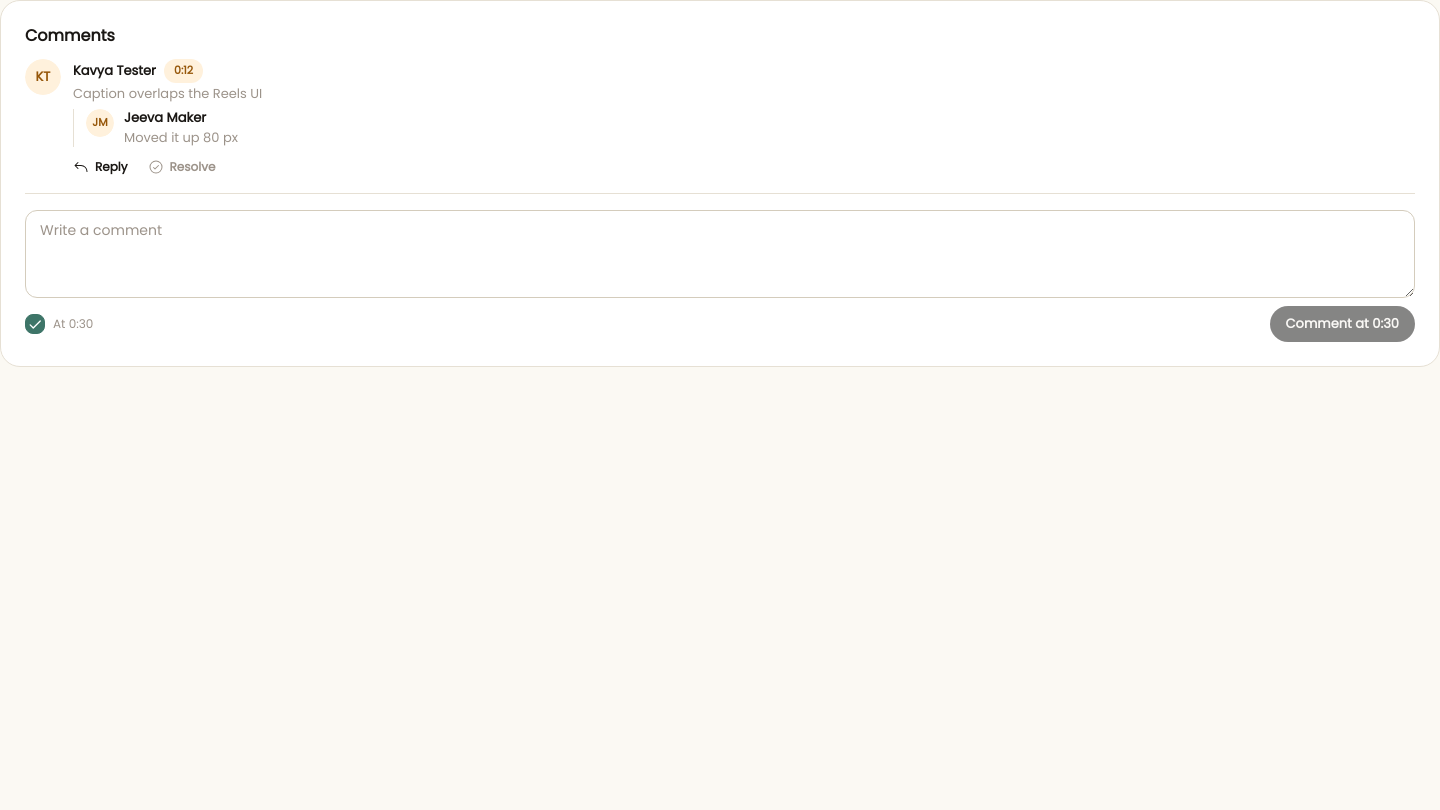
comment threads › shows replies indented under the root and sends a reply with parentId
Expected: the text "Moved it up 80 px" is shown, left=124, top=128, right=238, bottom=147
Expected: the number of buttons named "Go to" is 1, left=164, top=59, right=203, bottom=83
Click the button with aria-label "Reply to Kavya Tester": (100, 167) left=65, top=153, right=136, bottom=181
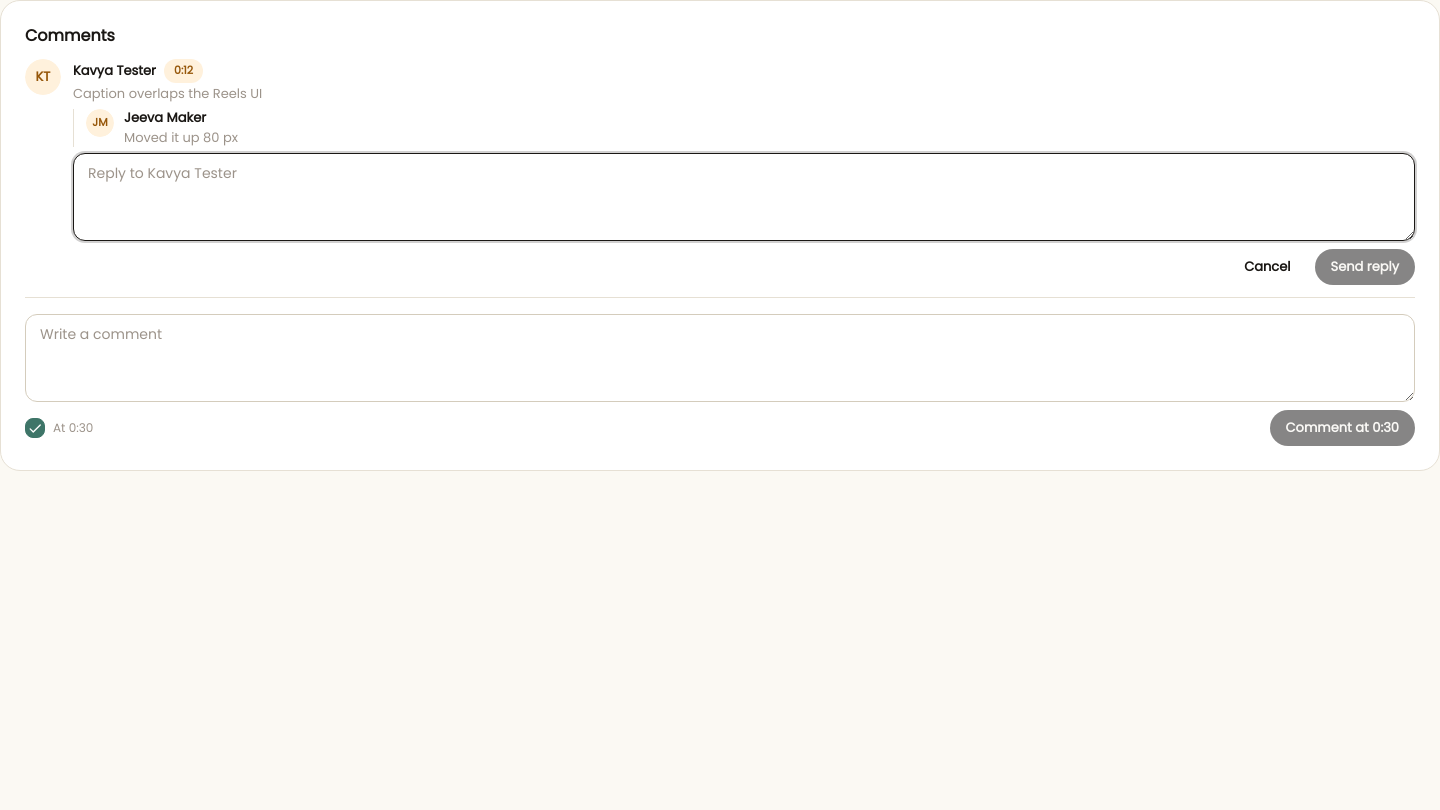
Now the text box labelled "Reply to Kavya Tester" is empty
In the text box labelled "Reply to Kavya Tester": (744, 197) left=73, top=153, right=1415, bottom=241, type "Thanks"
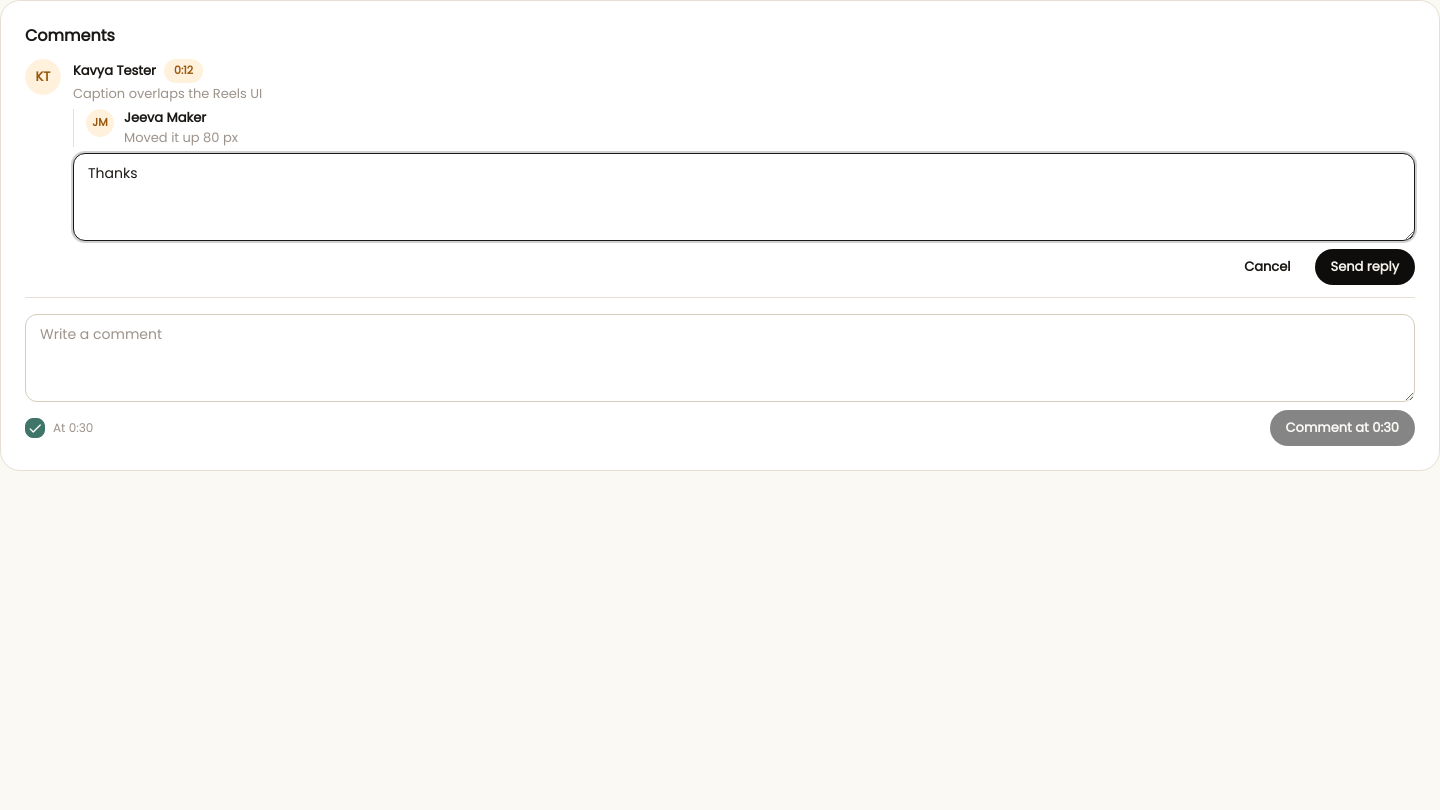
Click the button "Send reply": (1365, 267) left=1314, top=249, right=1415, bottom=285
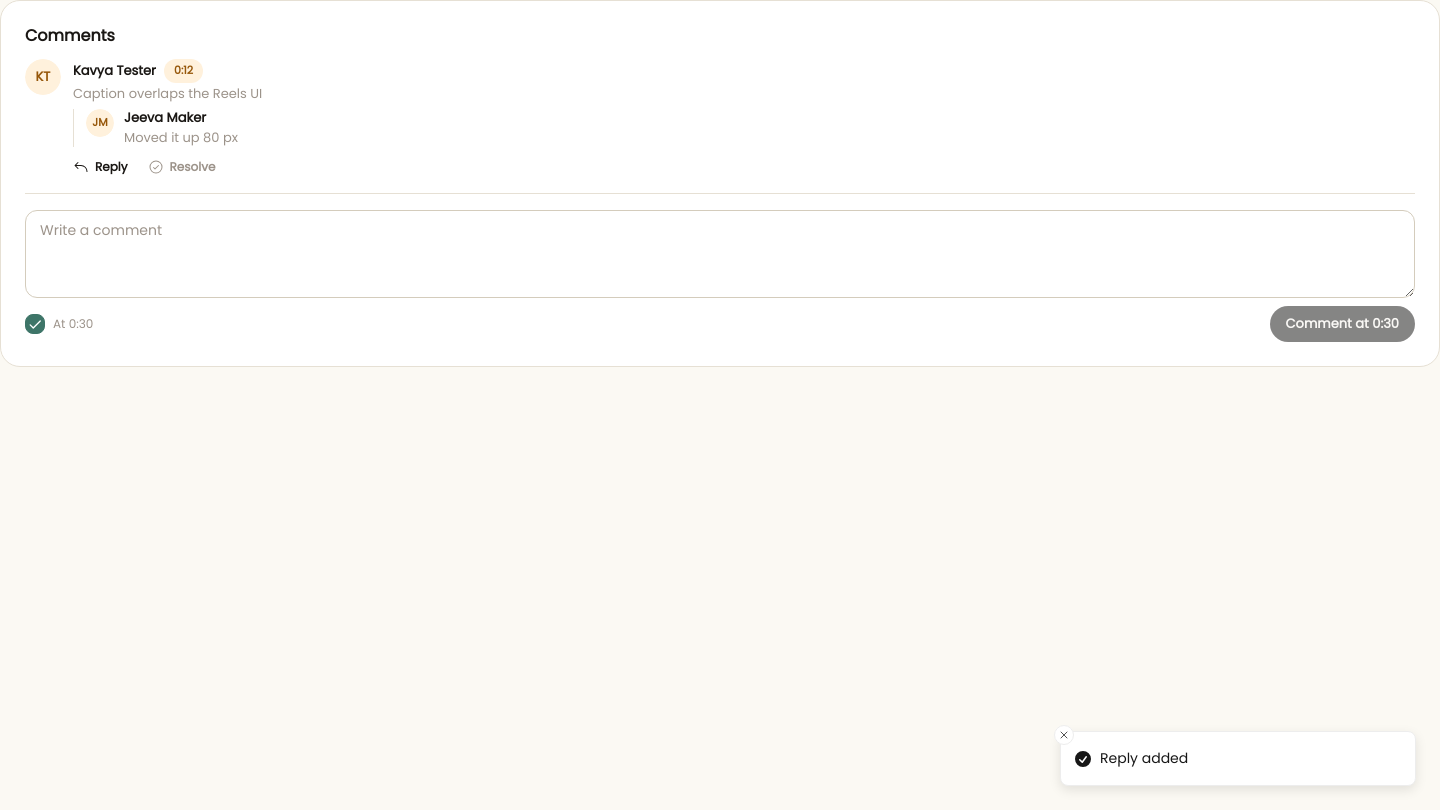
Expected: the field labelled "Reply to Kavya Tester" is not shown
Now the text "Reply added" is shown, box left=1100, top=748, right=1188, bottom=769
